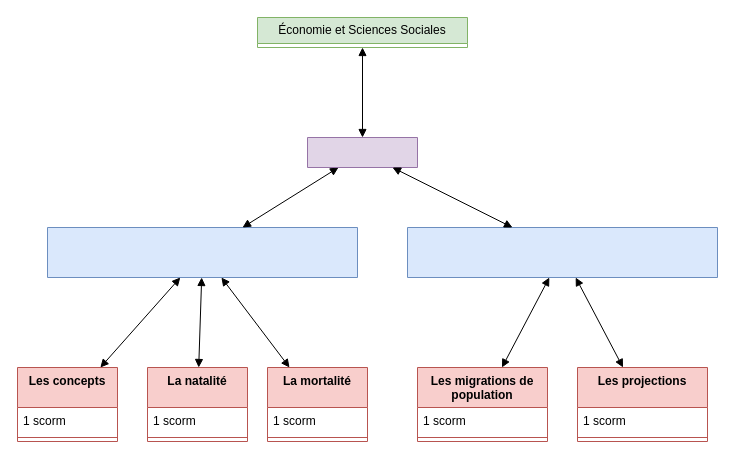
Image size: 735x459. Some labels were removed from this diagram. The box of each missing label's shape, as (x1, y1, x2, y2) in pixels:
Comprendre et anticiper les phénomènes démographiques: (406, 226, 718, 278)
Découvrir les premiers concepts en démographie: (46, 226, 358, 278)
Démographie: (306, 136, 418, 168)
